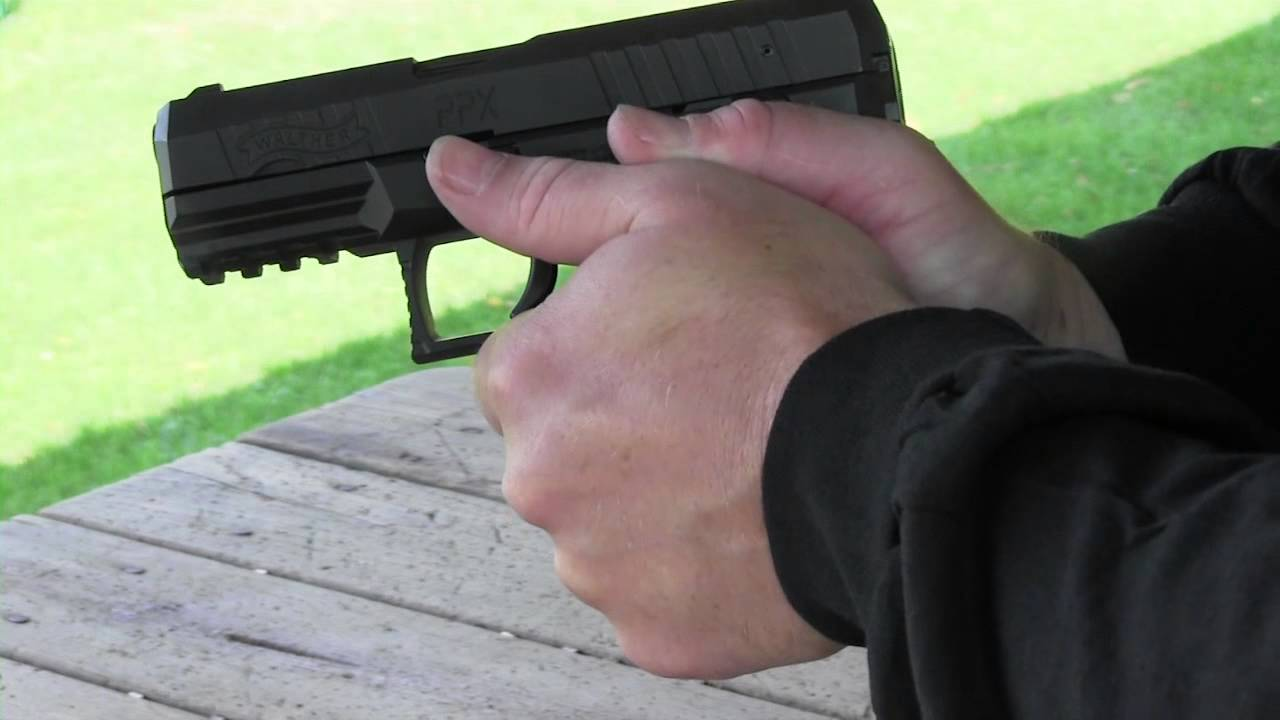pistol: (107, 2, 948, 655)
